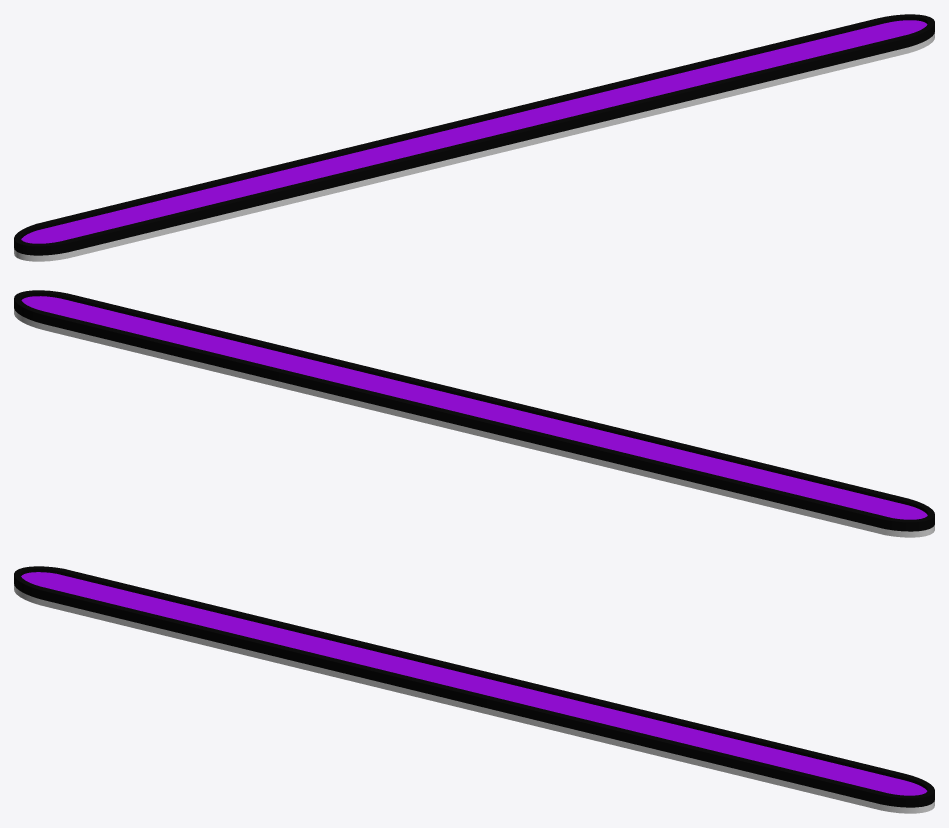
File: NoteOpen.fbx
3 renders of one model, top to bottom at view 1: azimuth 30°, elevation 25°; view 2: azimuth 150°, elevation 25°; view 3: azimuth 330°, elevation 25°, orthographic.
Parts seen in each view (by area): view 1: Cylinder.021; view 2: Cylinder.021; view 3: Cylinder.021.
Part boxes in pixels (bbox=[...]): Cylinder.021: bbox=[14, 14, 934, 261]; Cylinder.021: bbox=[14, 290, 934, 537]; Cylinder.021: bbox=[14, 566, 934, 813].
Size of the model in its own units: 303 by 4.82 by 16.08.
